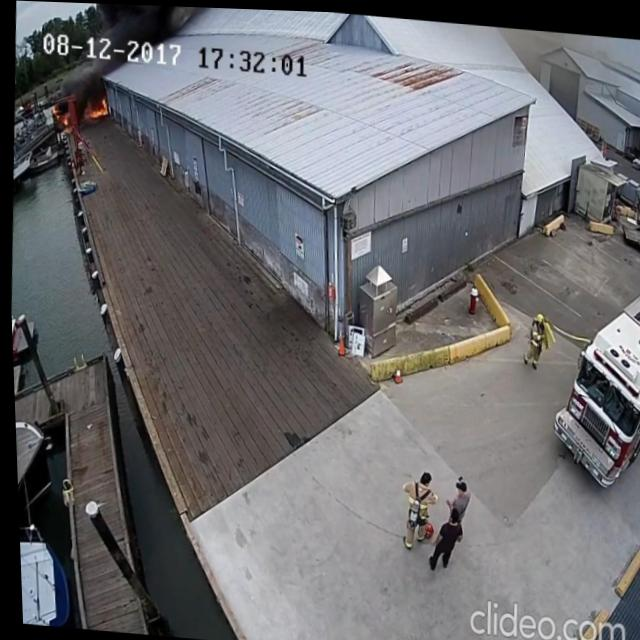fire: (79, 88, 110, 126), (48, 101, 72, 132)
